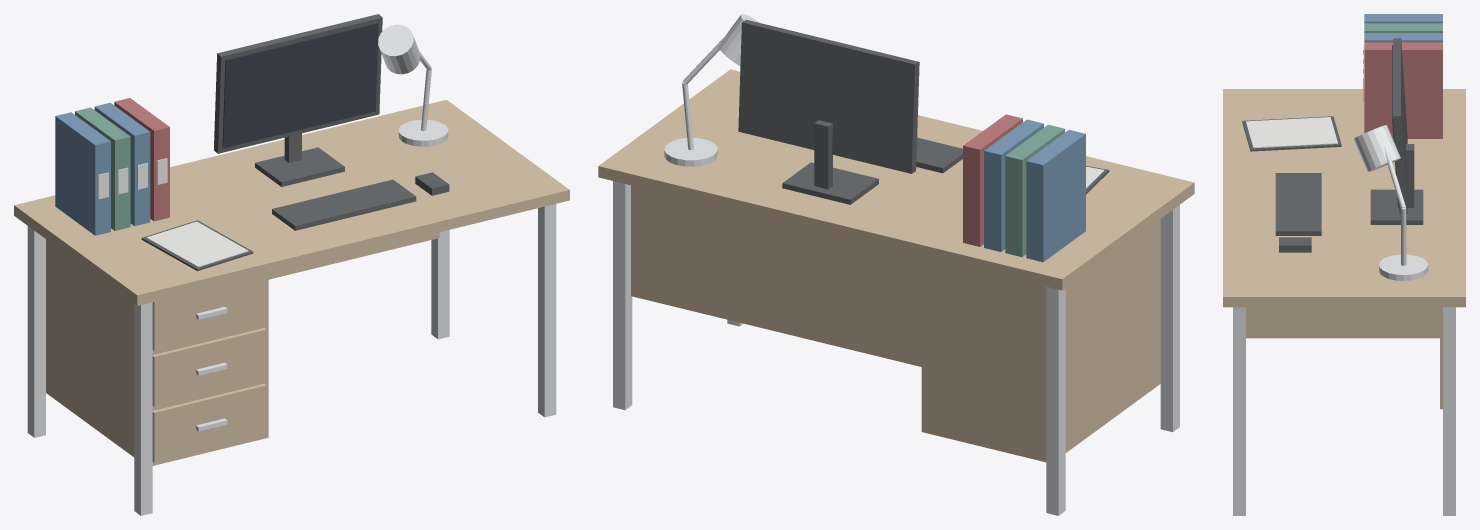
The model's file is hospital_desk.fbx.
3 renders of one model, left to right at view 1: azimuth 30°, elevation 25°; view 2: azimuth 150°, elevation 25°; view 3: azimuth 270°, elevation 25°, orthographic. The views are drawn at different scales.
Visible parts, largest first — view 1: 05_DoctorDesk_Intact_DeskAndProps; view 2: 05_DoctorDesk_Intact_DeskAndProps; view 3: 05_DoctorDesk_Intact_DeskAndProps.
Part boxes in pixels (x1=…): 05_DoctorDesk_Intact_DeskAndProps: x1=14, y1=14, x2=569, y2=515; 05_DoctorDesk_Intact_DeskAndProps: x1=598, y1=14, x2=1194, y2=515; 05_DoctorDesk_Intact_DeskAndProps: x1=1223, y1=14, x2=1465, y2=515.
Size of the model in its own units: 150 by 120 by 74.
